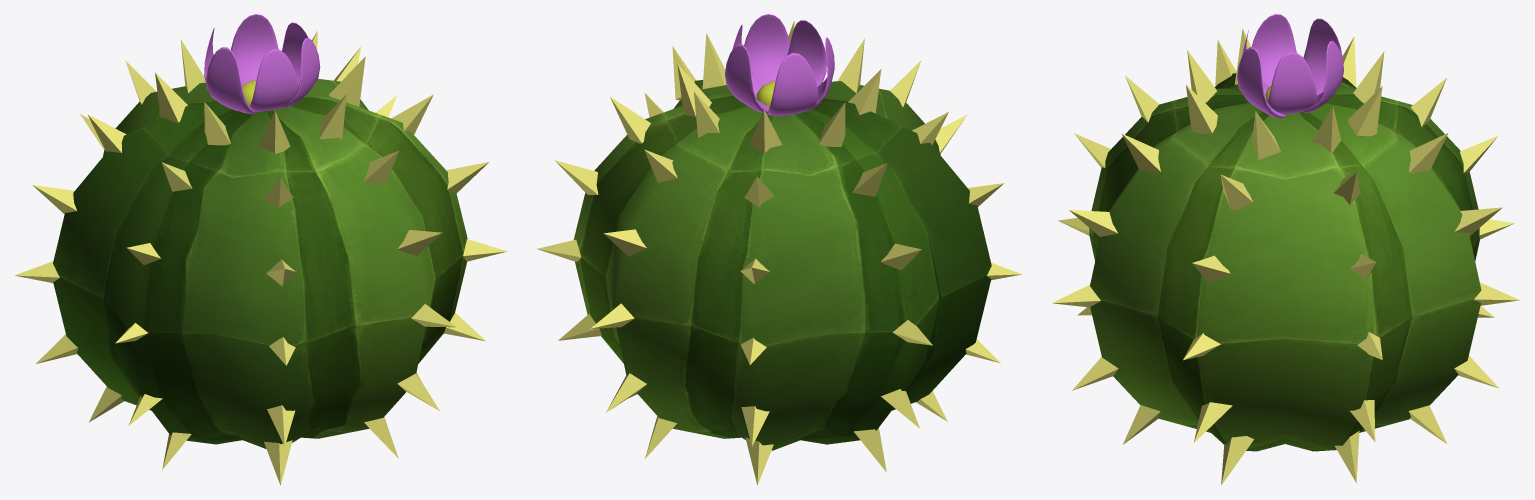
The model's file is CactusFlower.fbx.
The picture shows the model from 3 angles, left to right: view 1: azimuth 30°, elevation 25°; view 2: azimuth 150°, elevation 25°; view 3: azimuth 270°, elevation 25°; orthographic projection.
Visible parts, largest first — view 1: Cactus1Flower; view 2: Cactus1Flower; view 3: Cactus1Flower.
Part boxes in pixels (x1,y1,x2,y2): Cactus1Flower: (14, 14, 507, 485); Cactus1Flower: (537, 14, 1021, 485); Cactus1Flower: (1052, 14, 1519, 485).
Bounding box in the file's own units: 97.25 × 91.74 × 98.92.
4 materials, 1 textured.
